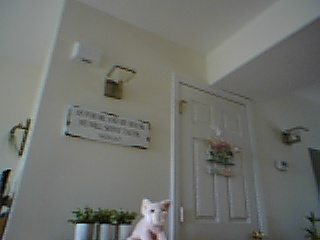piggy: (129, 197, 174, 240)
